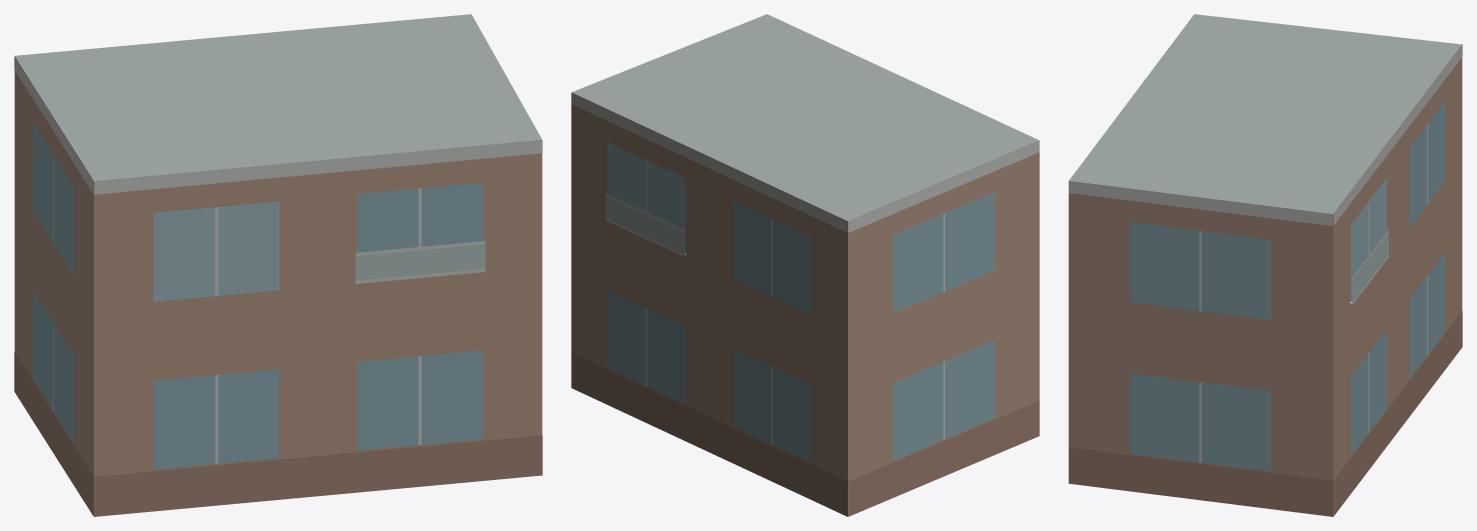
Rendered from survey-upis-32870594.glb.
3 renders of one model, left to right at view 1: azimuth 30°, elevation 25°; view 2: azimuth 150°, elevation 25°; view 3: azimuth 270°, elevation 25°, orthographic. The views are drawn at different scales.
Parts seen in each view (by area): view 1: survey-upis-32870594.tmp; view 2: survey-upis-32870594.tmp; view 3: survey-upis-32870594.tmp.
Part boxes in pixels (bbox=[...]): survey-upis-32870594.tmp: bbox=[14, 14, 542, 516]; survey-upis-32870594.tmp: bbox=[571, 14, 1039, 516]; survey-upis-32870594.tmp: bbox=[1068, 14, 1462, 516].
Bounding box in the file's own units: 8.66 × 6.1 × 7.2.
